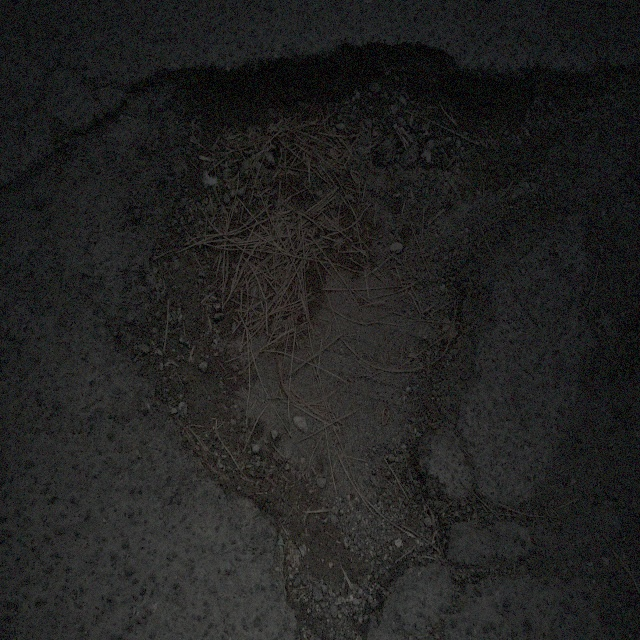pothole: (121, 39, 575, 542)
